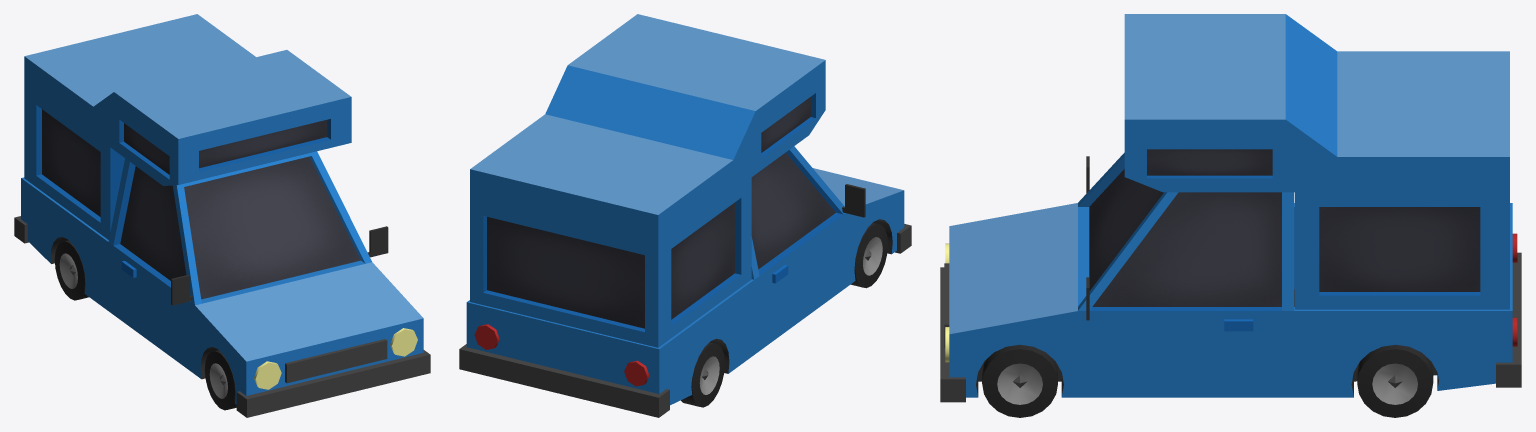
File: Ban_A4.fbx
3 views of the same model, side by side, from view 1: azimuth 30°, elevation 25°; view 2: azimuth 150°, elevation 25°; view 3: azimuth 270°, elevation 25° (orthographic). The views are drawn at different scales.
Visible parts, largest first — view 1: Ban_Body, Ban_RF, Ban_RR; view 2: Ban_Body, Ban_RR, Ban_RF; view 3: Ban_Body, Ban_LR, Ban_LF.
Boxes of the visible parts, x1,y1,x2,y2 form: Ban_Body: (14, 14, 430, 417); Ban_RF: (204, 350, 236, 410); Ban_RR: (54, 240, 88, 300); Ban_Body: (459, 14, 911, 417); Ban_RR: (681, 342, 724, 407); Ban_RF: (851, 222, 887, 288); Ban_Body: (940, 14, 1521, 402); Ban_LR: (1357, 344, 1433, 417); Ban_LF: (982, 345, 1057, 417).
Bounding box in the file's own units: 207 × 219 × 387.
Materials: 1 (1 with a texture image).
